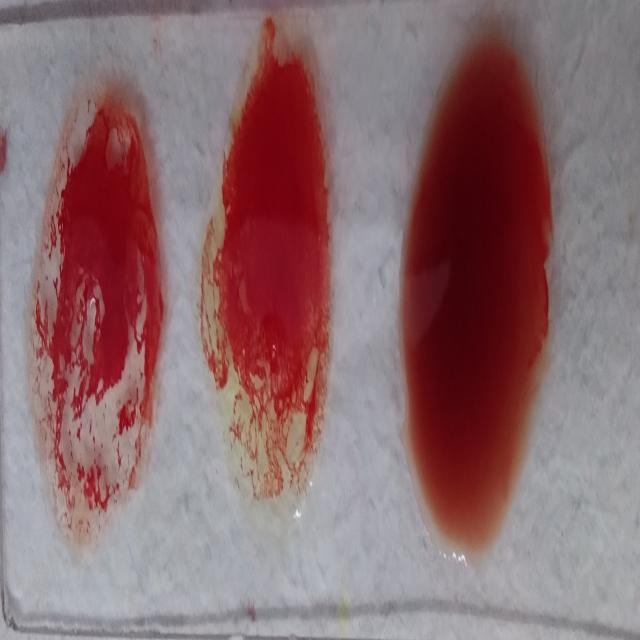B: (196, 24, 336, 506)
D: (34, 66, 166, 540)
